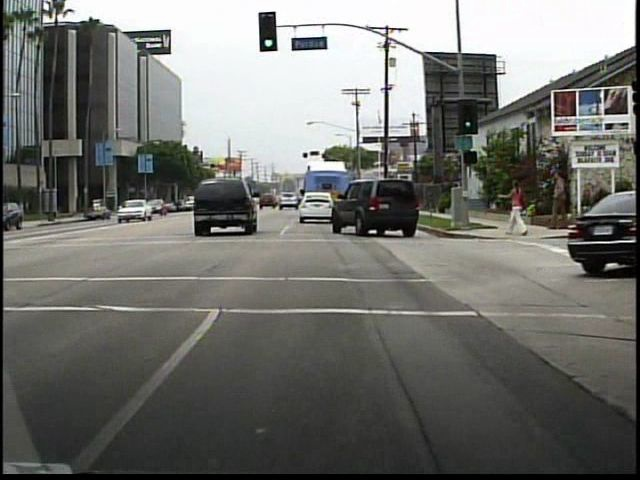person: (502, 174, 532, 243), (542, 167, 572, 230)
